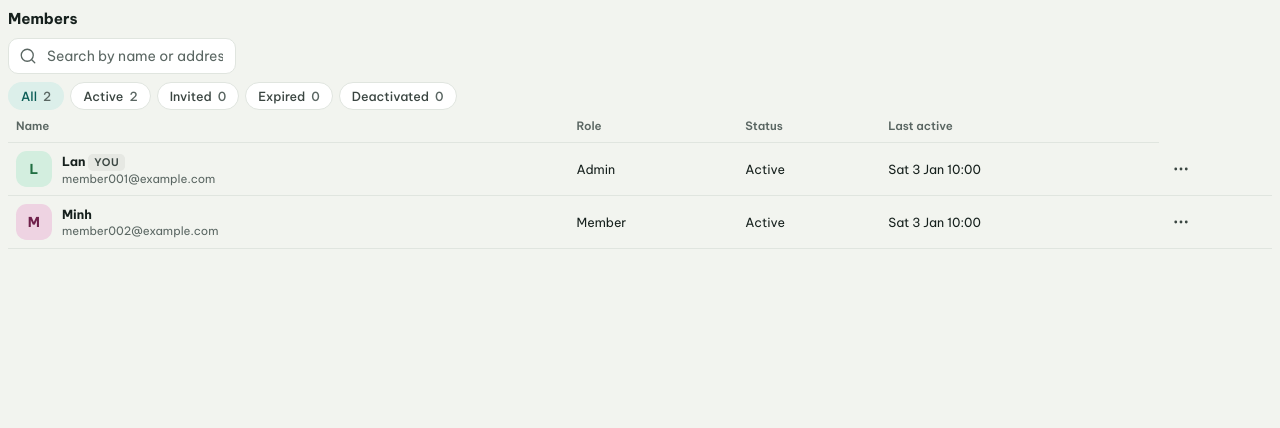
the menu of an account row (R15, R16, R17) › the only Admin: Change role to Member says to make someone else an Admin first, and Deactivate is locked
Click the button named "Actions for Lan" at coordinates (1181, 169), box [1167, 155, 1195, 183]
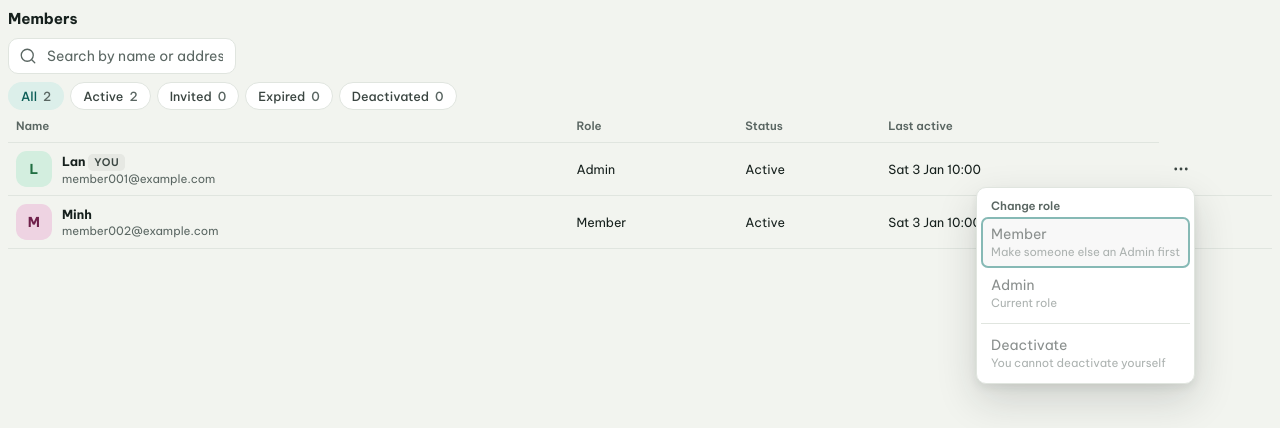
Result: the menu item "Member Make someone else an Admin first" is shown at [981, 217, 1190, 268]
